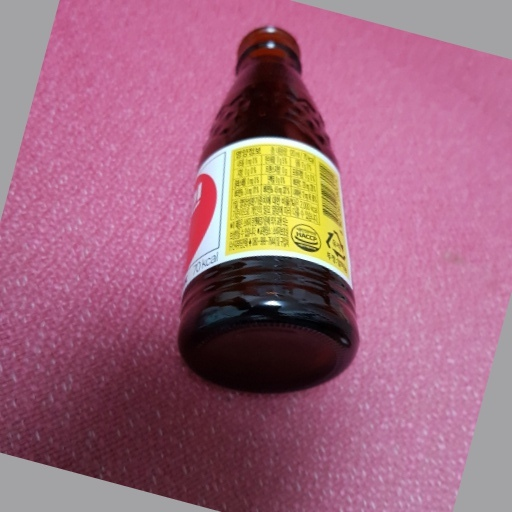Glass_3: (170, 22, 368, 392)
